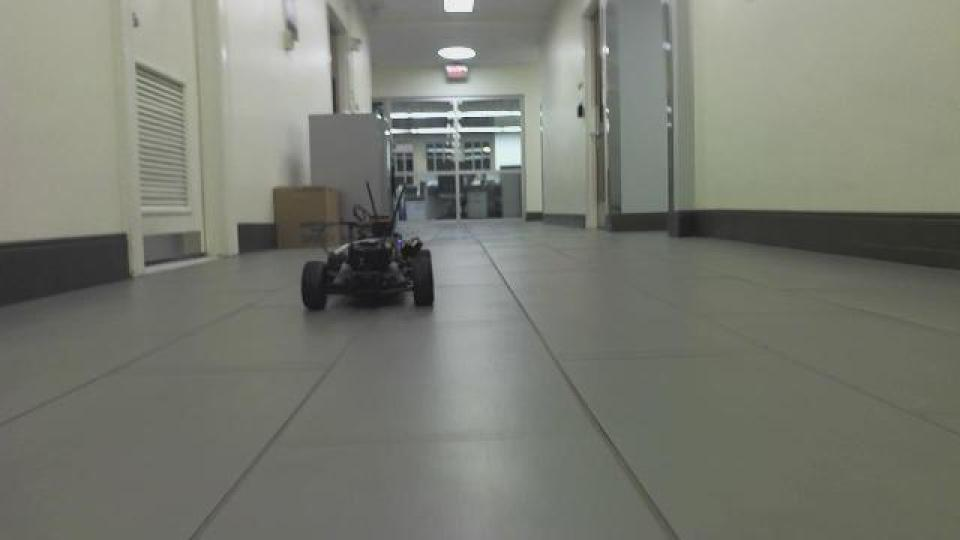car: (297, 180, 437, 315)
